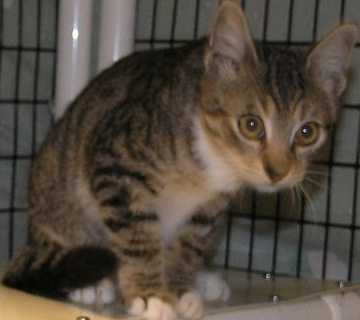Cat: (2, 0, 359, 309)
